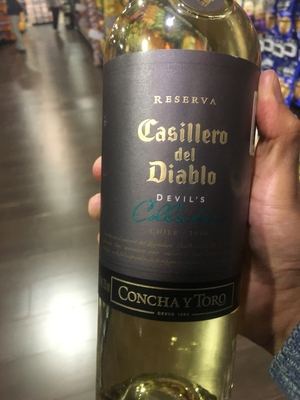casillero del diablo devils collection verde: (94, 14, 261, 400)
